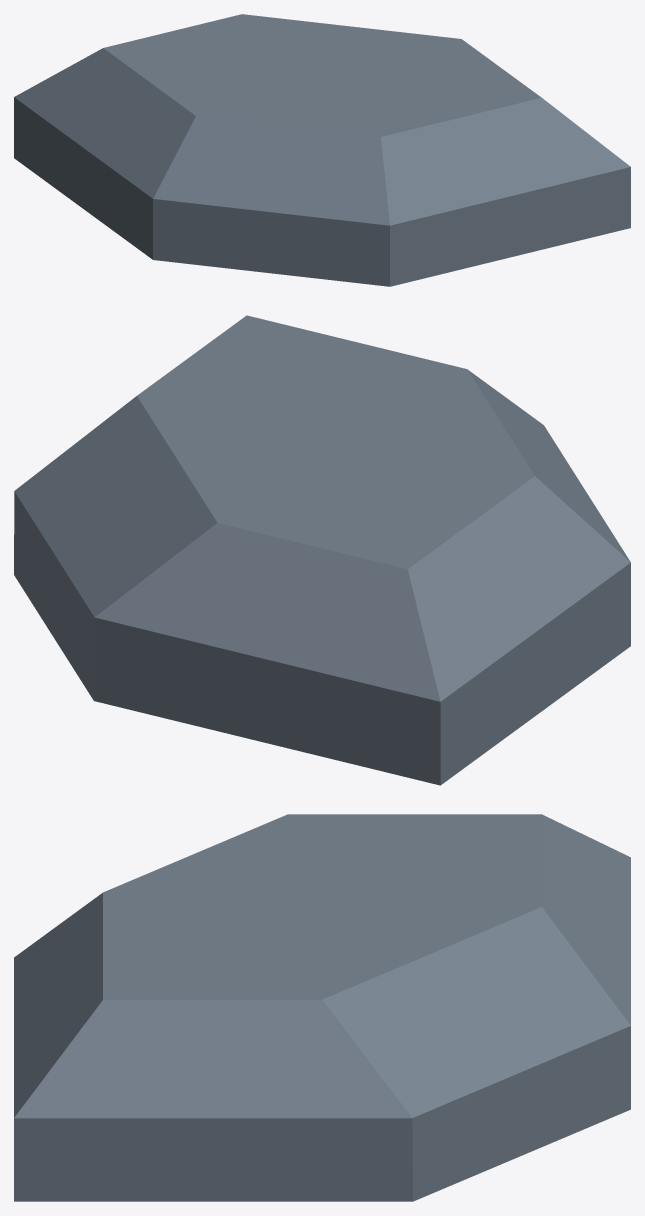
Rendered from Stone_C.fbx.
3 renders of one model, top to bottom at view 1: azimuth 30°, elevation 25°; view 2: azimuth 150°, elevation 25°; view 3: azimuth 270°, elevation 25°, orthographic. The views are drawn at different scales.
Visible parts, largest first — view 1: Stone_C; view 2: Stone_C; view 3: Stone_C.
Boxes of the visible parts, box(x1,y1,x2,y2) form: Stone_C: box(14, 14, 630, 286); Stone_C: box(14, 315, 630, 785); Stone_C: box(14, 814, 630, 1201).
Bounding box in the file's own units: 10.08 × 2.96 × 10.08.
1 material, 1 textured.
